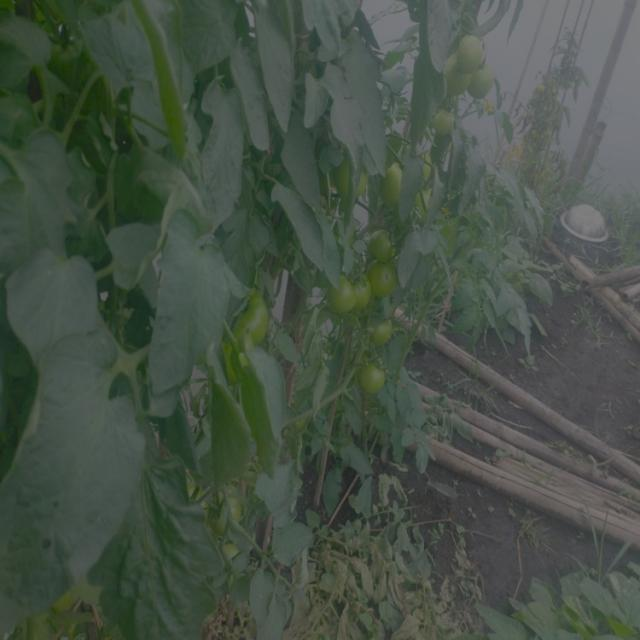tomato: (228, 290, 279, 349), (201, 482, 248, 531), (337, 160, 372, 202), (428, 103, 461, 138), (367, 315, 400, 349), (359, 363, 393, 396), (368, 228, 402, 260), (458, 32, 487, 67), (384, 159, 407, 203), (375, 268, 405, 301), (446, 66, 472, 101), (476, 74, 500, 108), (352, 272, 376, 306), (332, 275, 354, 312), (420, 148, 436, 180), (419, 187, 435, 215), (225, 543, 242, 563)
